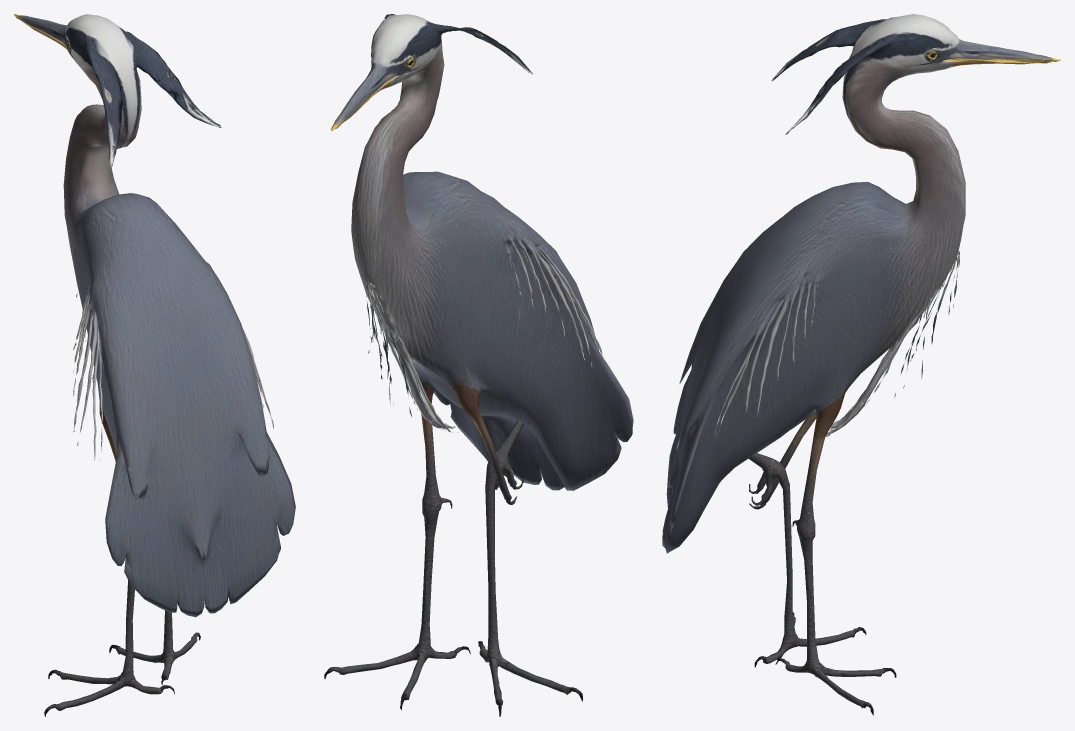
The model's file is heron.glb.
3 renders of one model, left to right at view 1: azimuth 30°, elevation 25°; view 2: azimuth 150°, elevation 25°; view 3: azimuth 270°, elevation 25°, orthographic. The views are drawn at different scales.
Parts seen in each view (by area): view 1: tripo_node_7f4a9aff-21c0-40e6-860d-4933c2dfa502; view 2: tripo_node_7f4a9aff-21c0-40e6-860d-4933c2dfa502; view 3: tripo_node_7f4a9aff-21c0-40e6-860d-4933c2dfa502.
Part boxes in pixels (<box>): tripo_node_7f4a9aff-21c0-40e6-860d-4933c2dfa502: <box>14,14,295,716</box>; tripo_node_7f4a9aff-21c0-40e6-860d-4933c2dfa502: <box>324,14,633,716</box>; tripo_node_7f4a9aff-21c0-40e6-860d-4933c2dfa502: <box>662,14,1060,715</box>.
Size of the model in its own units: 0.4085 by 1.25 by 0.6874.
1 material, 1 textured.
